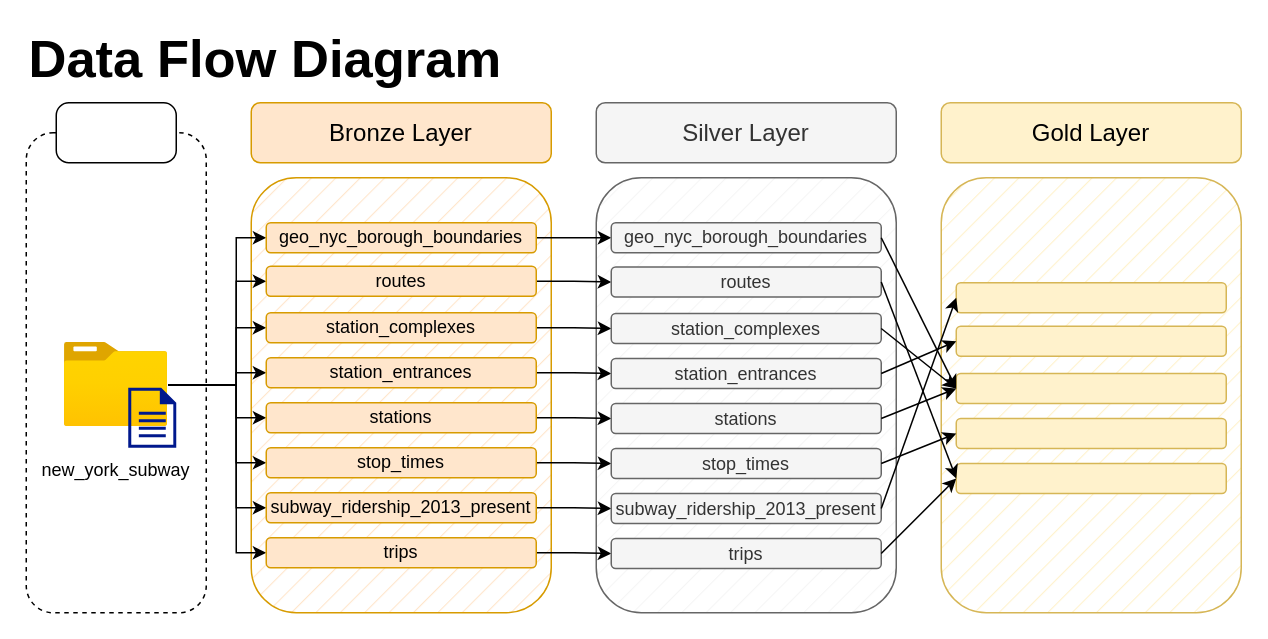
Image size: 1268x639. Some labels were removed from this diagram. Here are the shapes that lost their labels. From the top down, the centre of each, then its label:
the point at 115,132: Sources
the point at 1090,297: fact_subway_ridership
the point at 1090,340: dim_station_entrances
the point at 1090,388: dim_stations
the point at 1090,432: dim_stop_times
the point at 1090,478: dim_trips
